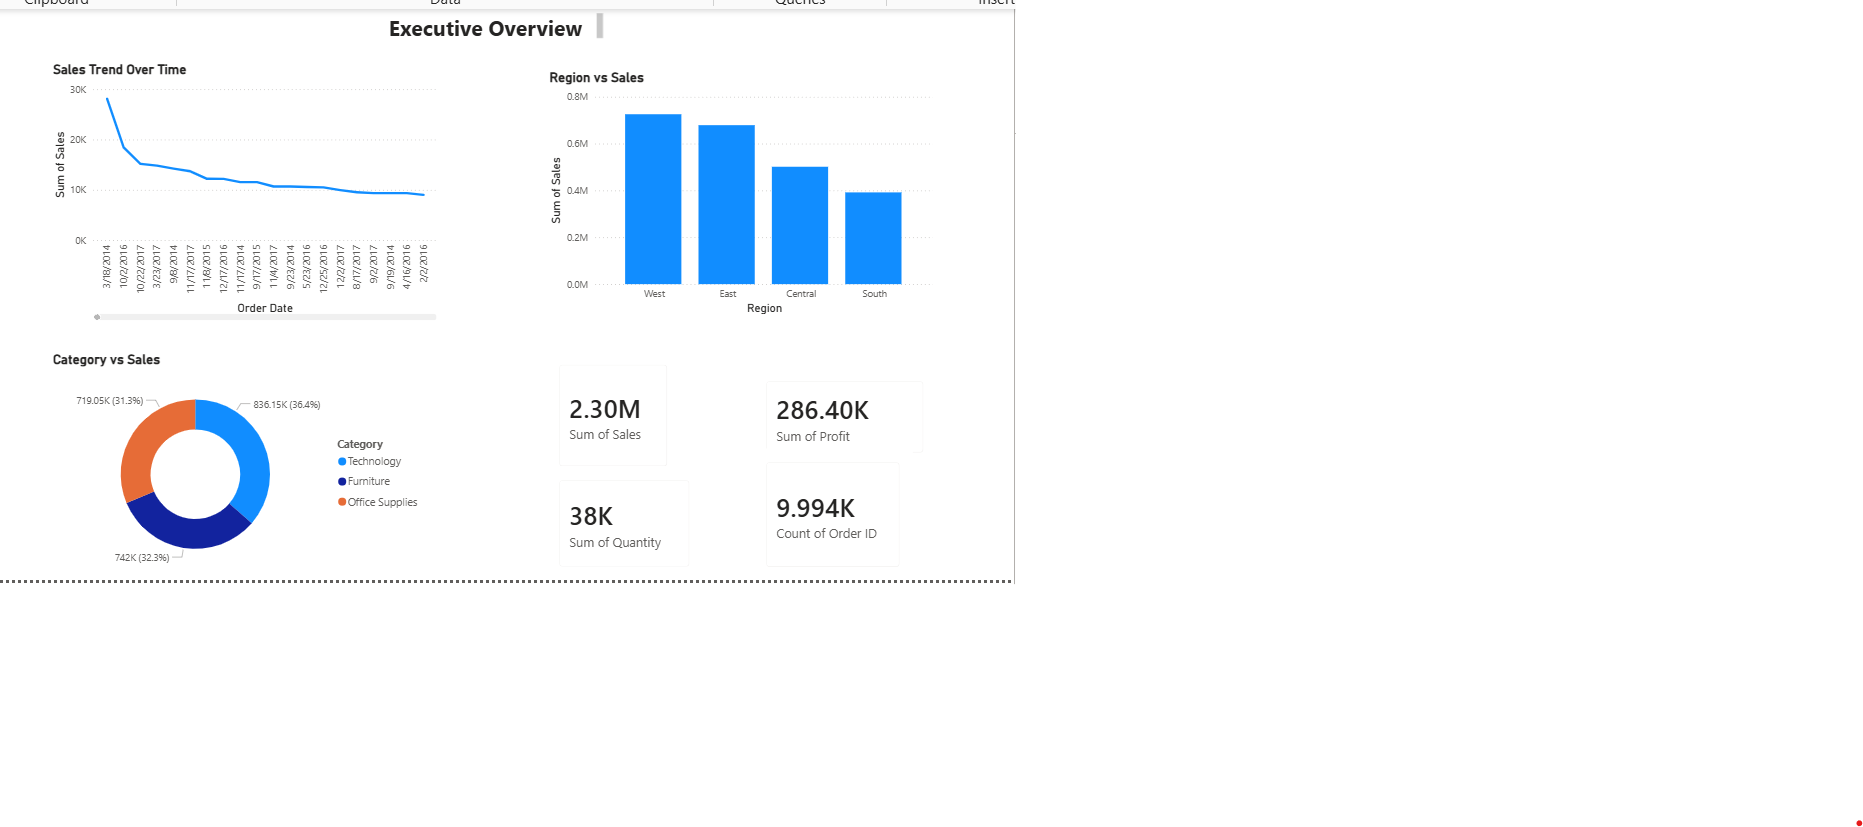

What the dashboard file says about the page in this screenshot:
{"tool":"powerbi","page":{"name":"Executive Overview","canvas":[1280,720],"ordinal":0},"visuals":[{"type":"textbox","box":[487.6,0,279.7,43.5],"z":0},{"type":"lineChart","title":"Sales Trend Over Time","fields":{"Category":["Sample - Superstore.Order Date"],"Y":["Sum(Sample - Superstore.Sales)"]},"box":[64.3,66.1,493.2,330.7],"z":1000},{"type":"clusteredColumnChart","title":"Region vs Sales","fields":{"Category":["Sample - Superstore.Region"],"Y":["Sum(Sample - Superstore.Sales)"]},"box":[689.8,75.6,493.2,313.7],"z":2000},{"type":"donutChart","title":"Category vs Sales","fields":{"Category":["Sample - Superstore.Category"],"Y":["Sum(Sample - Superstore.Sales)"]},"box":[64.3,430.9,478.1,289.1],"z":3000},{"type":"cardVisual","fields":{"Data":["Sum(Sample - Superstore.Sales)"]},"box":[689.8,430.9,170.1,162.5],"z":4000},{"type":"cardVisual","fields":{"Data":["Sum(Sample - Superstore.Profit)"]},"box":[950.6,451.7,232.4,124.7],"z":5000},{"type":"cardVisual","fields":{"Data":["Sum(Sample - Superstore.Quantity)"]},"box":[689.8,576.4,198.4,143.6],"z":6000},{"type":"cardVisual","fields":{"Data":["CountNonNull(Sample - Superstore.Order ID)"]},"box":[950.6,553.7,202.2,166.3],"z":7000}]}

Visuals, with their boxes on the page's 1280x720 design canvas (x1, y1, x2, y2). These are canvas units, not pixel positions in the 1863x827 screenshot, which may show the page scaled, cropped or inside an application window:
textbox: box(488, 0, 767, 44)
"Sales Trend Over Time" lineChart: box(64, 66, 558, 397)
"Region vs Sales" clusteredColumnChart: box(690, 76, 1183, 389)
"Category vs Sales" donutChart: box(64, 431, 542, 720)
cardVisual - Sum(Sample - Superstore.Sales): box(690, 431, 860, 593)
cardVisual - Sum(Sample - Superstore.Profit): box(951, 452, 1183, 576)
cardVisual - Sum(Sample - Superstore.Quantity): box(690, 576, 888, 720)
cardVisual - CountNonNull(Sample - Superstore.Order ID): box(951, 554, 1153, 720)
